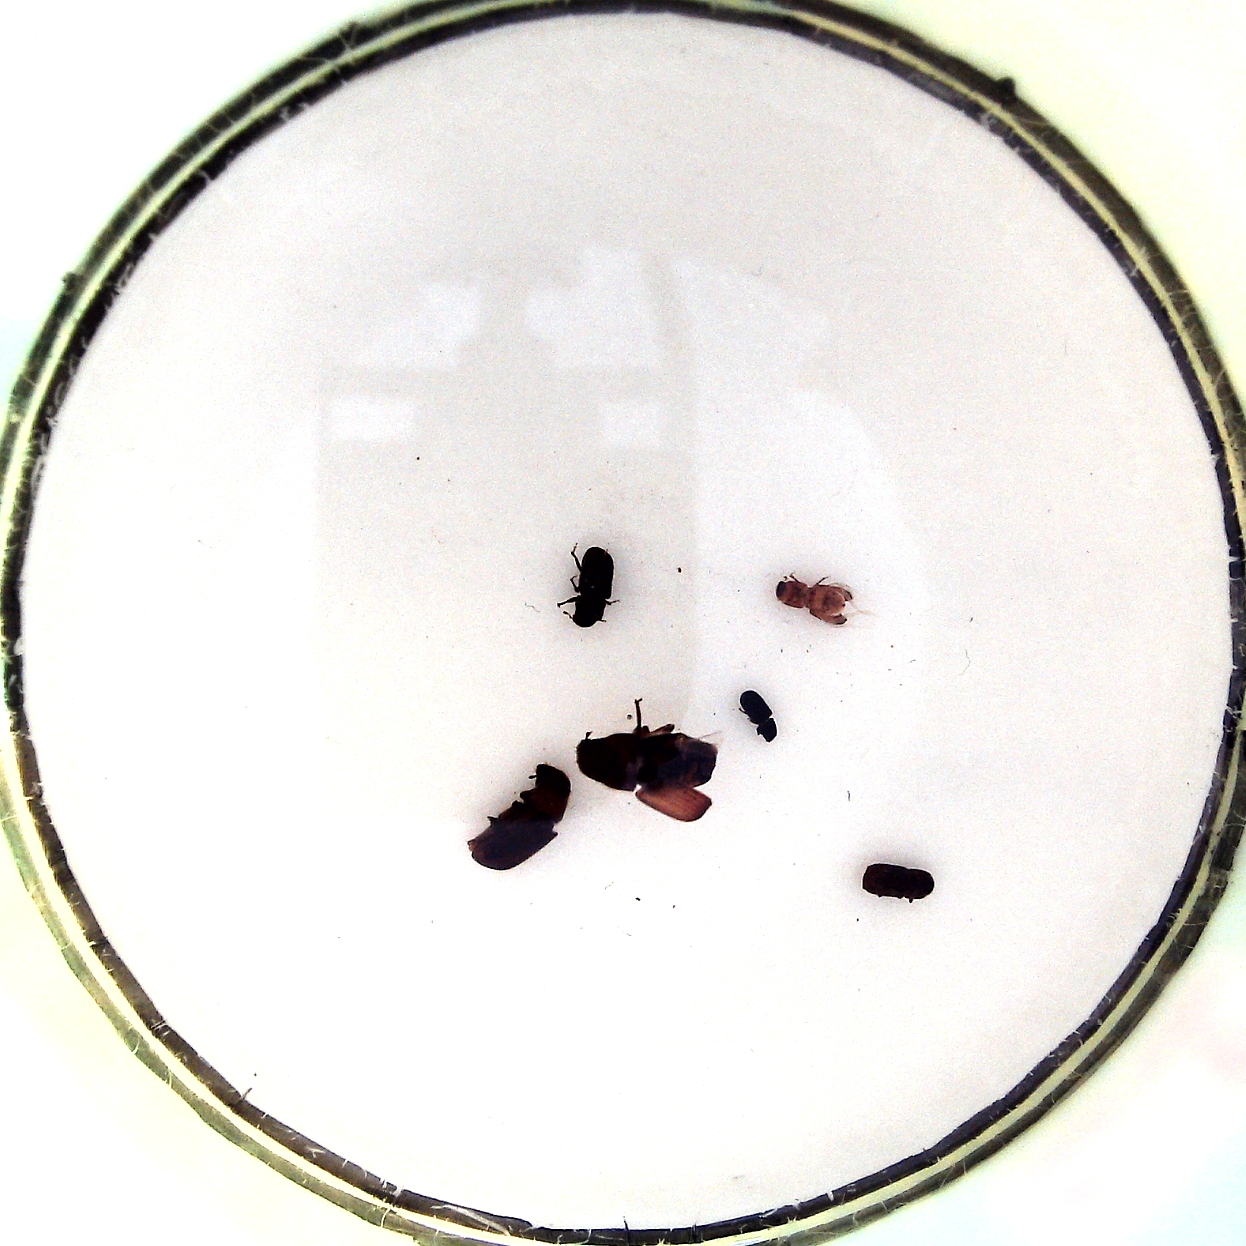Leconte: (578, 704, 720, 823), (468, 764, 574, 876)
Linnaeus: (863, 855, 938, 907)
acuminatus: (771, 573, 858, 623)
armandi: (556, 541, 624, 628)
coleoptera: (735, 687, 779, 745)
